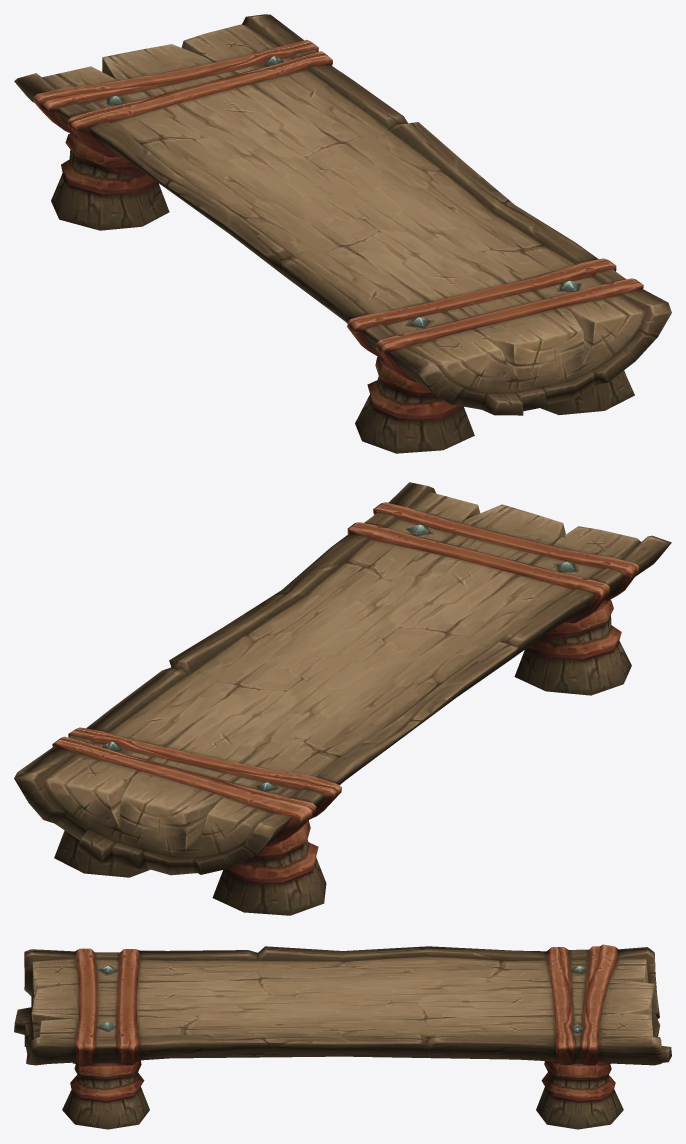
The picture shows the model from 3 angles, top to bottom: view 1: azimuth 30°, elevation 25°; view 2: azimuth 150°, elevation 25°; view 3: azimuth 270°, elevation 25°; orthographic projection. The views are drawn at different scales.
Size of the model in its own units: 2.35 by 0.9322 by 6.43.
1 material, 1 textured.
